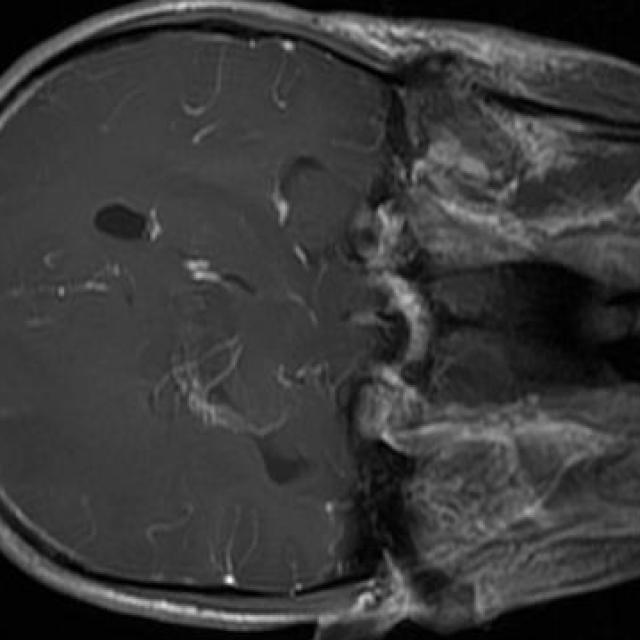glioma: (153, 260, 269, 435)
